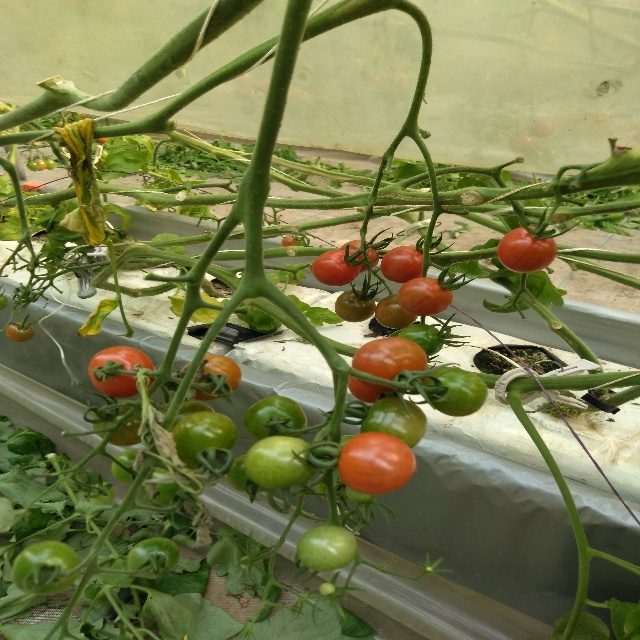l_fully_ripened: (337, 432, 416, 496), (88, 346, 155, 399), (496, 226, 557, 274), (312, 249, 361, 287), (379, 245, 423, 284), (347, 376, 403, 403)
l_green: (244, 435, 316, 490), (10, 541, 81, 596), (169, 412, 237, 467), (418, 366, 488, 418), (360, 397, 428, 449), (242, 396, 308, 442), (296, 525, 359, 572), (93, 400, 156, 446), (124, 536, 181, 579), (228, 453, 268, 493), (397, 323, 444, 357), (111, 448, 149, 484), (88, 482, 115, 506), (346, 485, 376, 503), (319, 582, 337, 597)
l_half_ripened: (351, 336, 428, 394), (180, 354, 242, 400), (397, 277, 453, 317), (374, 293, 418, 329), (334, 288, 375, 323), (338, 239, 379, 274), (4, 322, 34, 342)
